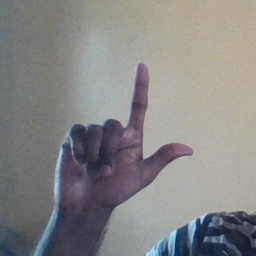L: (47, 61, 194, 211)
